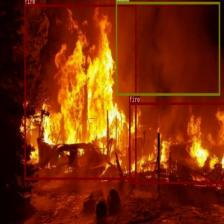fire: (24, 4, 136, 179), (129, 102, 224, 183)
smoke: (115, 2, 220, 95)
